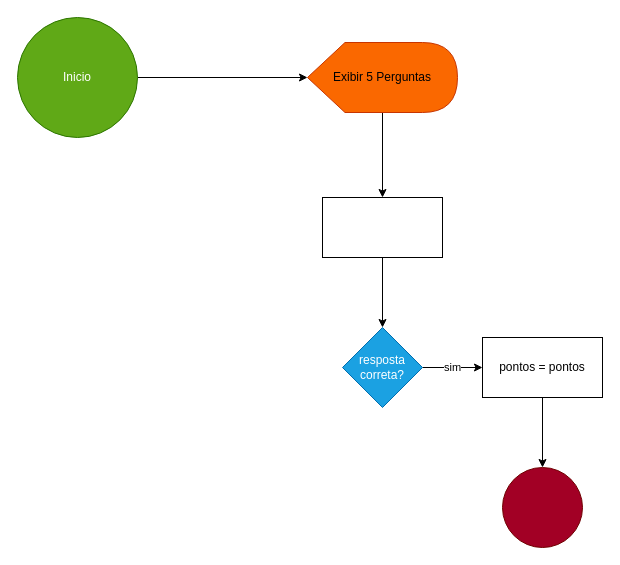
This 620x565 diagram has some shape labels left out. The shapes that lost their labels are listed below. From the top down, each one's box as (x1, y1, x2, y2) in pixels, then its label:
(322, 196, 442, 258): verificar resposta
(502, 466, 582, 548): FIM
